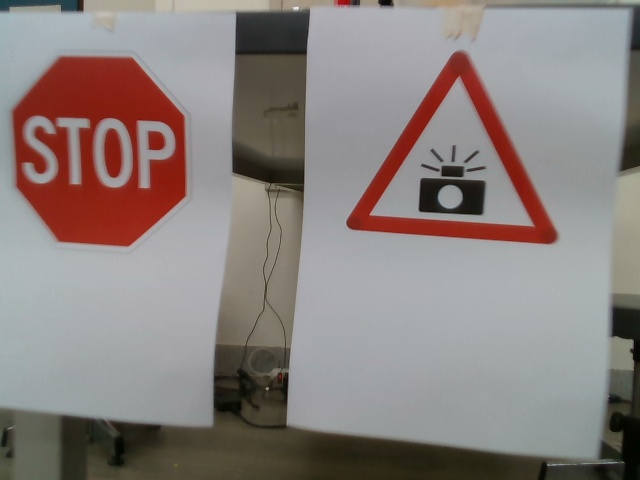camera: (345, 49, 562, 248)
stop: (12, 51, 194, 249)
